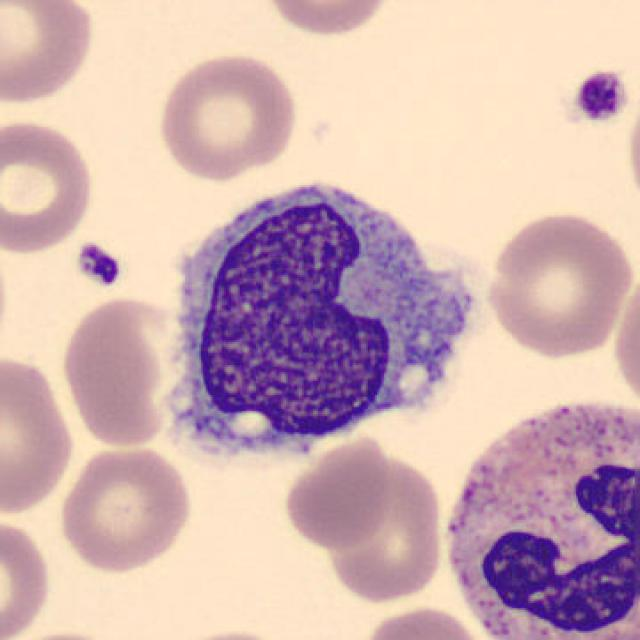Monocyte: (155, 164, 492, 469)
Neutrophil: (434, 382, 640, 640)
Platelets: (569, 67, 633, 127), (73, 240, 126, 291)
RBC: (482, 206, 633, 360), (320, 448, 450, 606), (57, 292, 187, 450), (153, 48, 300, 184), (55, 441, 196, 575), (0, 114, 98, 256), (281, 436, 393, 554), (0, 351, 78, 518), (0, 0, 100, 108), (0, 513, 55, 640), (260, 0, 400, 39), (355, 603, 489, 640), (610, 254, 640, 414), (624, 78, 640, 222)
